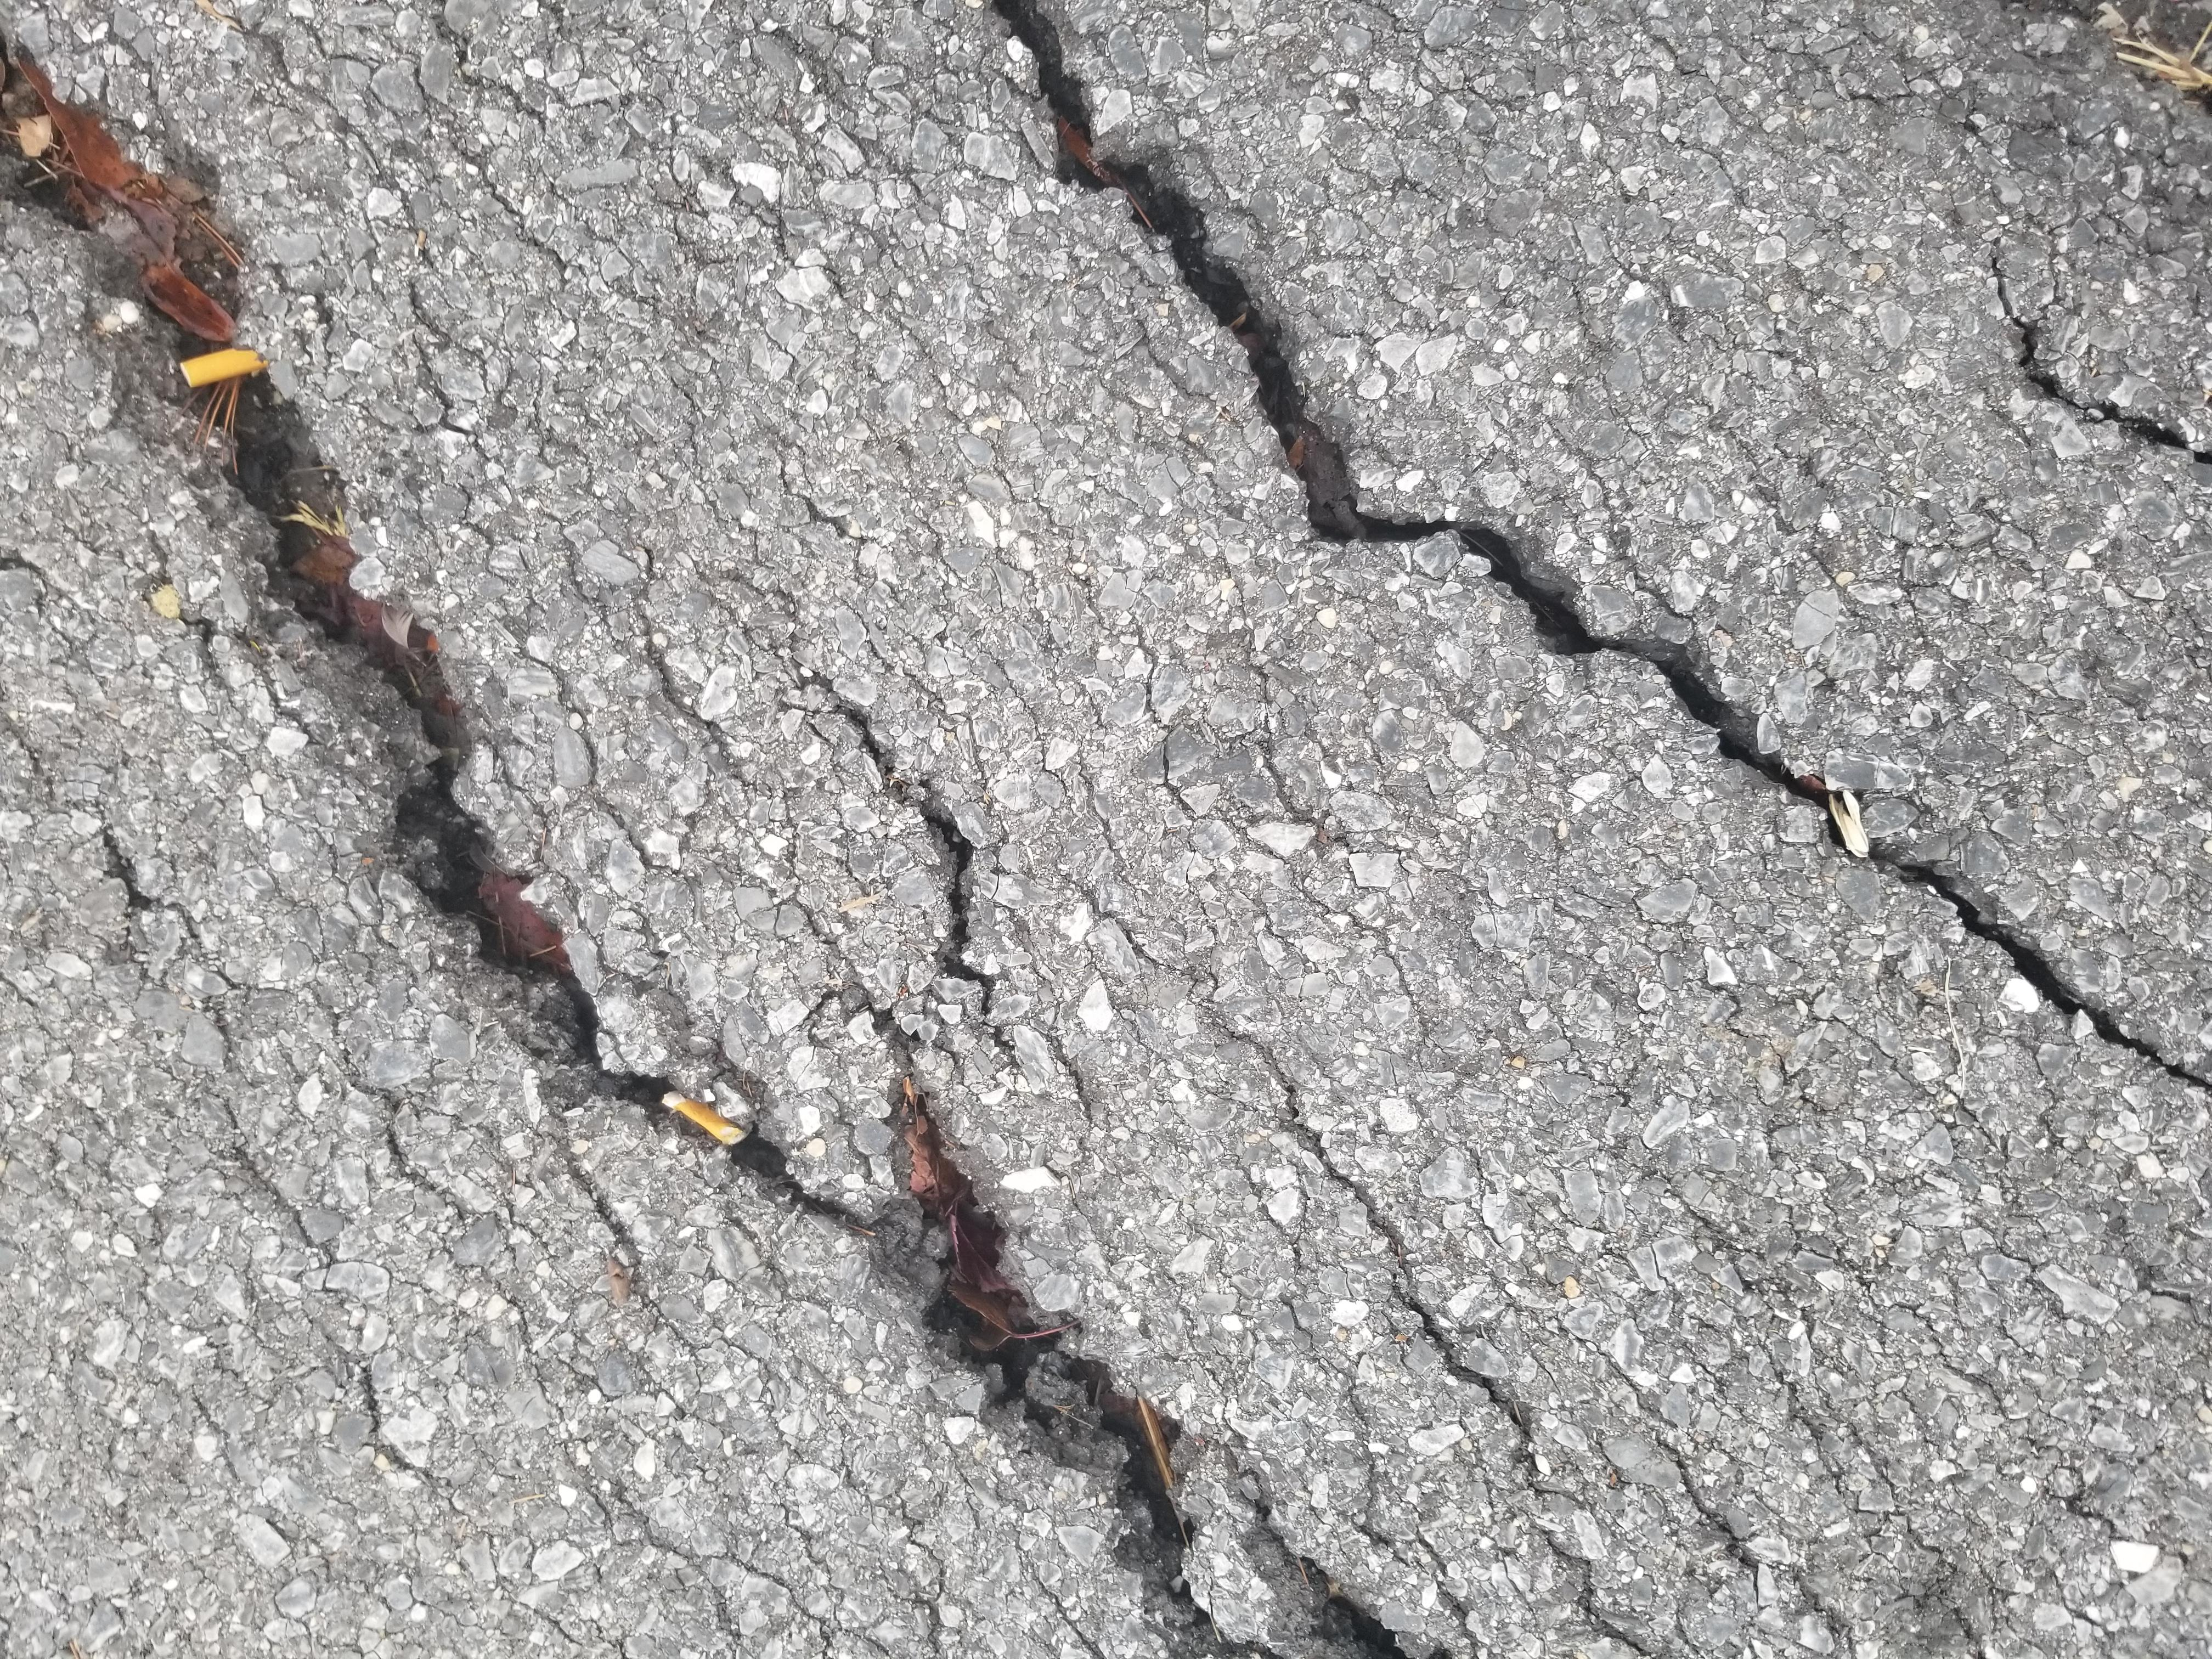crack: (775, 749, 2212, 1659), (738, 0, 2205, 695), (7, 532, 714, 1284)
